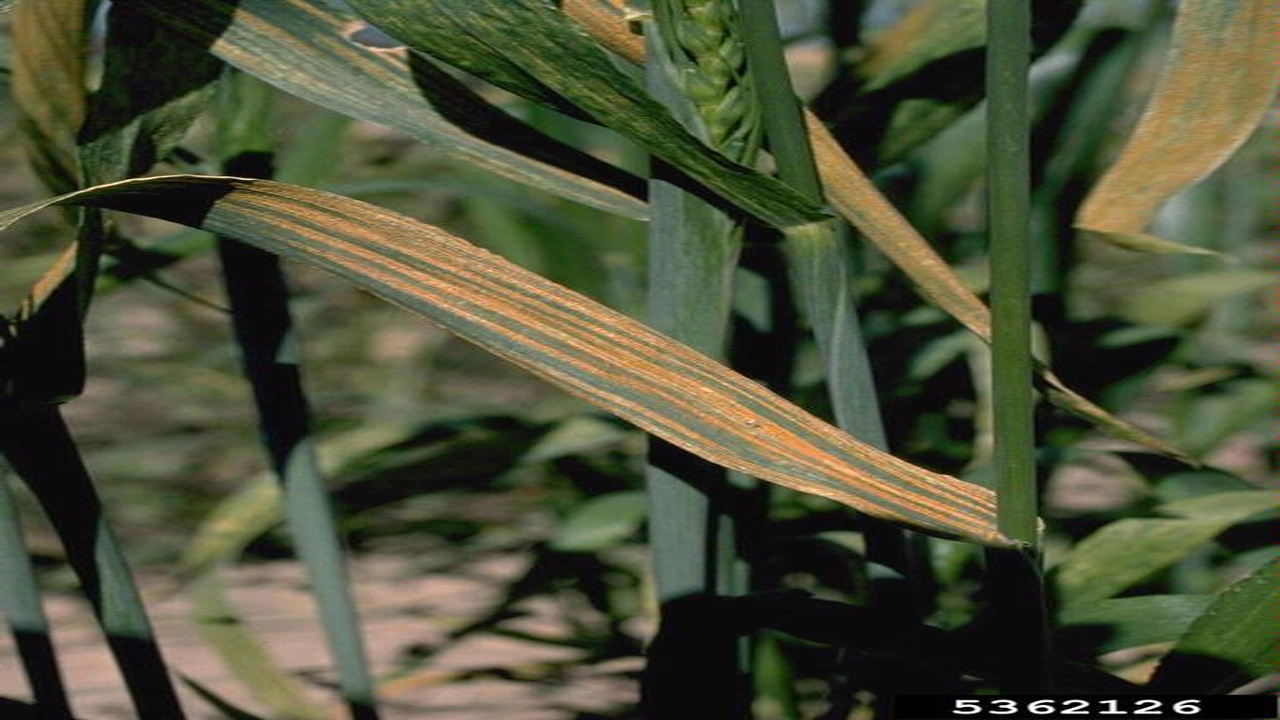stripe_rust: (125, 181, 1016, 560), (1067, 1, 1274, 258)
